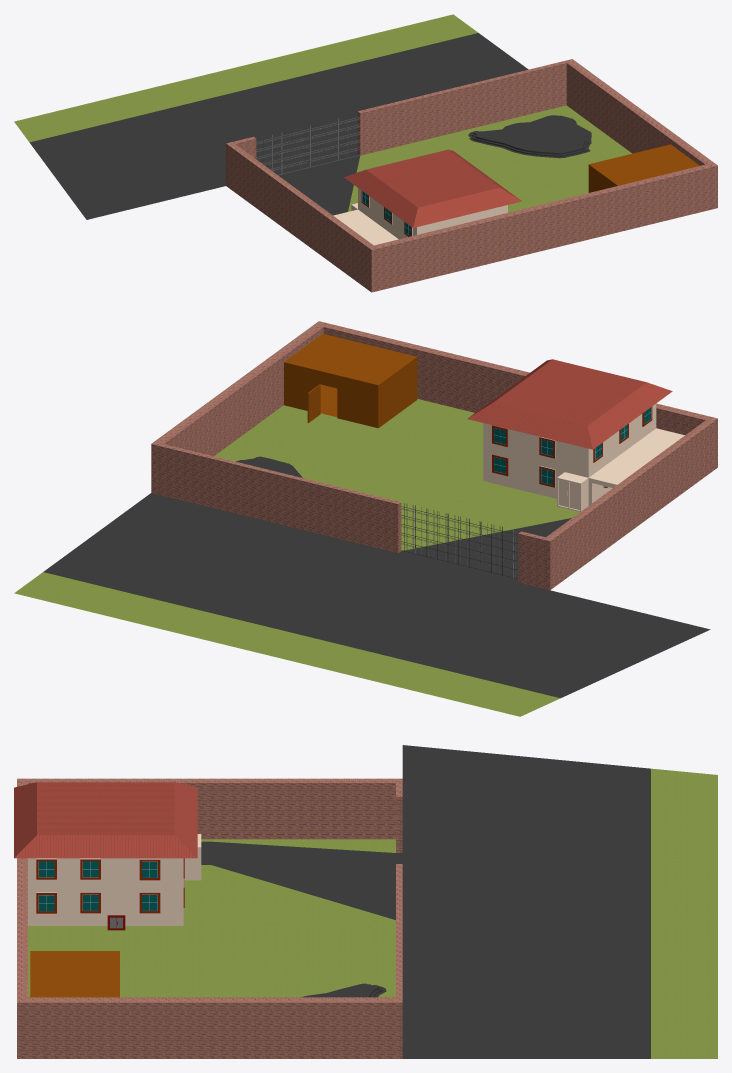
File: Outside.fbx
3 views of the same model, one above another, from view 1: azimuth 30°, elevation 25°; view 2: azimuth 150°, elevation 25°; view 3: azimuth 270°, elevation 25° (orthographic). The views are drawn at different scales.
Parts seen in each view (by area): view 1: Model, Group16, Group1, Group17; view 2: Model, Group16, Group1, Group17; view 3: Model, Group16, Group1, Group17.
Part boxes in pixels (bbox=[...]): Model: bbox=[14, 14, 631, 219]; Group16: bbox=[226, 59, 717, 292]; Group1: bbox=[333, 149, 521, 245]; Group17: bbox=[588, 144, 699, 192]; Model: bbox=[14, 399, 710, 716]; Group16: bbox=[151, 321, 717, 589]; Group1: bbox=[467, 359, 684, 511]; Group17: bbox=[284, 334, 417, 428]; Model: bbox=[28, 745, 717, 1058]; Group16: bbox=[17, 778, 402, 1058]; Group1: bbox=[14, 782, 201, 925]; Group17: bbox=[30, 951, 119, 997].
Bounding box in the file's own units: 3205 × 418 × 3037.
